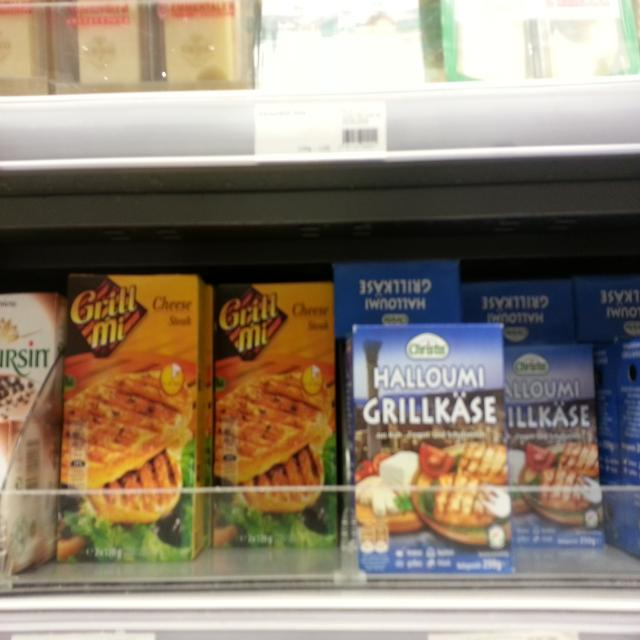Cheese: (56, 275, 205, 561), (352, 326, 515, 574), (212, 283, 338, 549), (504, 346, 604, 551)
